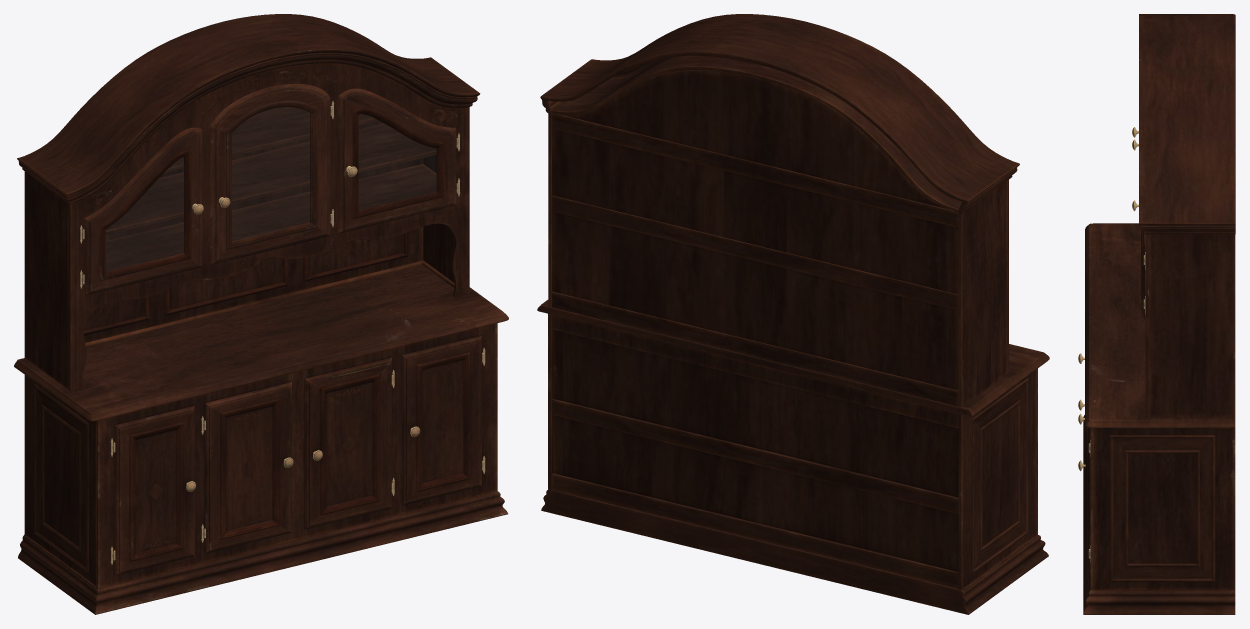
The model's file is vintage_cabinet_01_1k.gltf.
3 renders of one model, left to right at view 1: azimuth 30°, elevation 25°; view 2: azimuth 150°, elevation 25°; view 3: azimuth 270°, elevation 25°, orthographic. The views are drawn at different scales.
Visible parts, largest first — view 1: vintage_cabinet_01_body, vintage_cabinet_01_door_03, vintage_cabinet_01_door_01, vintage_cabinet_01_door_04, vintage_cabinet_01_door_07, vintage_cabinet_01_door_06, vintage_cabinet_01_door_05, vintage_cabinet_01_door_02; view 2: vintage_cabinet_01_body; view 3: vintage_cabinet_01_body, vintage_cabinet_01_door_02, vintage_cabinet_01_door_04.
Boxes of the visible parts, box(x1,y1,x2,y2) form: vintage_cabinet_01_body: box(14, 14, 508, 614); vintage_cabinet_01_door_03: box(210, 83, 332, 264); vintage_cabinet_01_door_01: box(82, 127, 203, 295); vintage_cabinet_01_door_04: box(338, 88, 458, 233); vintage_cabinet_01_door_07: box(304, 357, 392, 529); vintage_cabinet_01_door_06: box(204, 382, 293, 553); vintage_cabinet_01_door_05: box(113, 406, 195, 575); vintage_cabinet_01_door_02: box(402, 335, 483, 505); vintage_cabinet_01_body: box(537, 14, 1049, 614); vintage_cabinet_01_body: box(1083, 14, 1235, 614); vintage_cabinet_01_door_02: box(1078, 427, 1090, 572); vintage_cabinet_01_door_04: box(1132, 200, 1145, 319).
Bounding box in the file's own units: 2.02 × 2.24 × 0.6698.
Materials: 3 (2 with a texture image).
